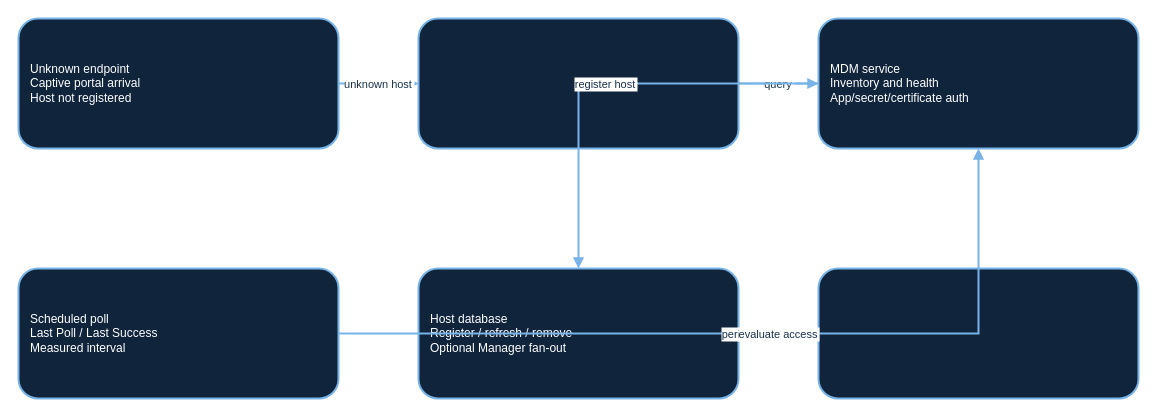
This 1156x416 diagram has some shape labels left out. Each missing label, with the centre of its shape:
"NAC policy Host state and posture Separate enforcement stage" belongs at (978,333).
"On-demand lookup Optional registration trigger MDM API query" belongs at (578,83).
